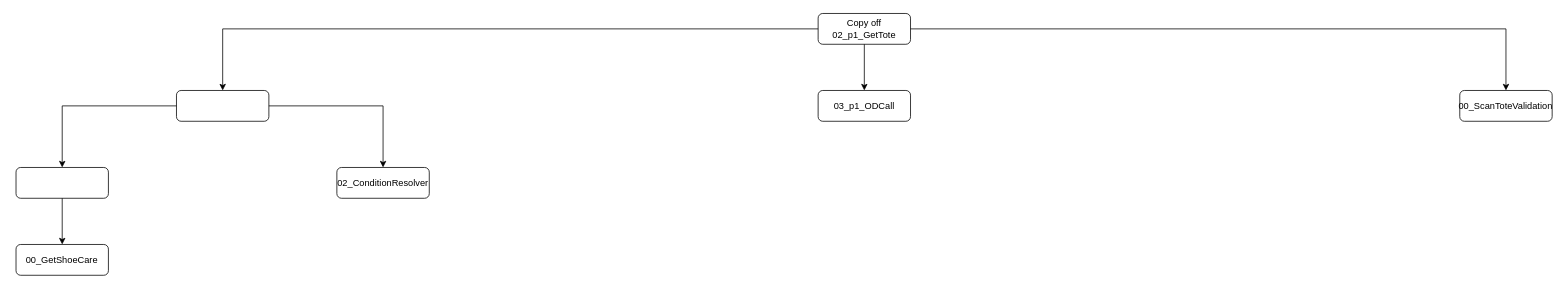
Image size: 1566x289. Some labels were removed from this diagram. Each missing label, with the box of its shape:
03_p1_GetFlow: (176, 90, 269, 121)
04_p1_GetComponents: (15, 167, 108, 198)
